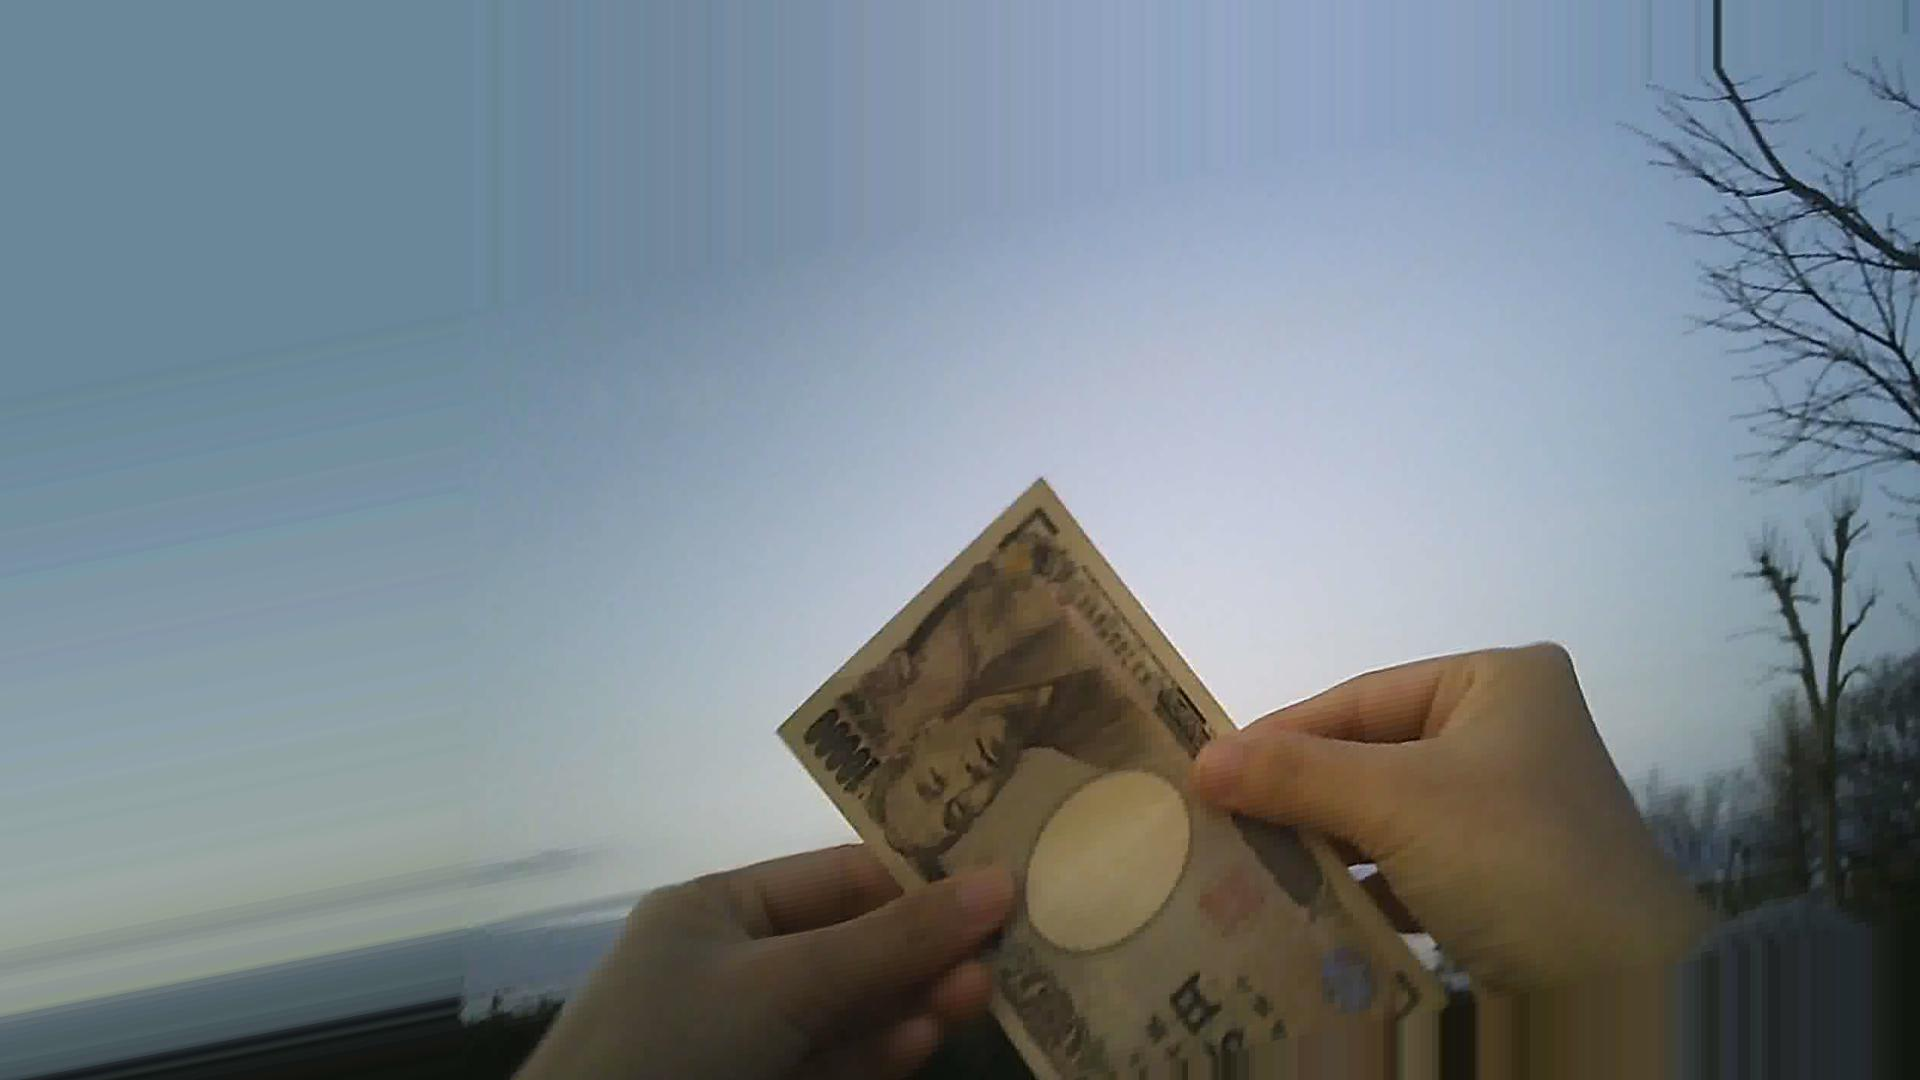10,000 Yen: (760, 475, 1447, 1079)
